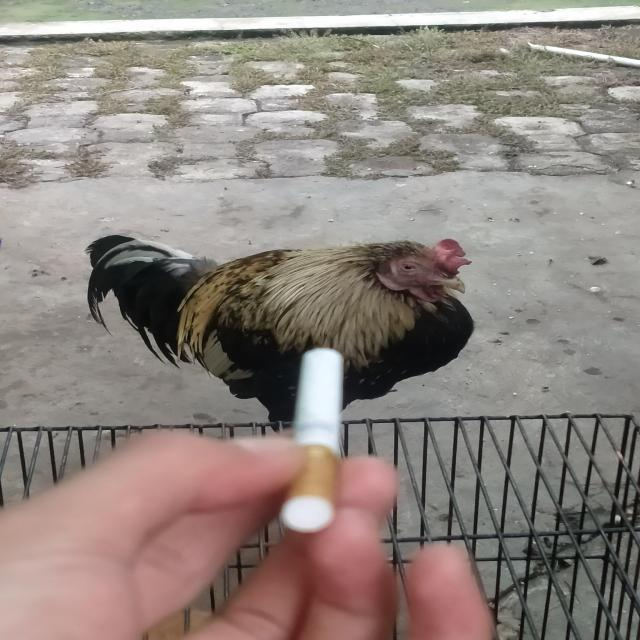rokok: (276, 338, 352, 538)
